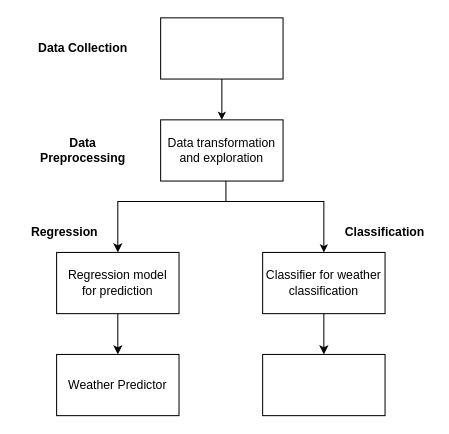
This 449x434 diagram has some shape labels left out. Each missing label, with the box of its shape:
Loading Dataset: (160, 17, 283, 79)
Weather Classifier: (262, 353, 385, 416)
